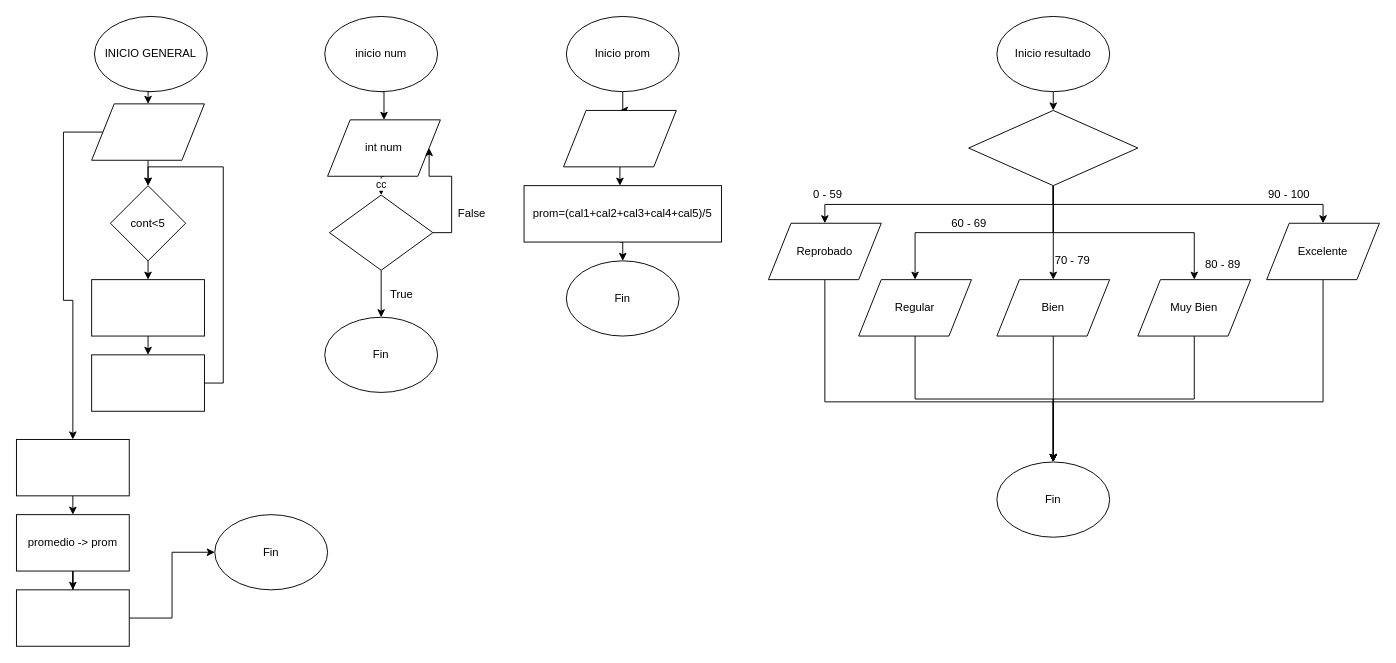
This 1396x663 diagram has some shape labels left out. The shapes that lost their labels are listed below. From the top down, each one's box as (x1, y1, x2, y2) in pixels, then its label:
(91, 103, 204, 160): cont=0 cal1, cal2, cal3, cal4, cal5
(563, 110, 676, 167): float prom
(968, 110, 1138, 186): Porcentaje
(329, 194, 433, 270): num>=1 && num<=10
(91, 279, 204, 336): cal -> num
(91, 354, 204, 411): cont++
(16, 439, 129, 496): cal1, cal2, cal3, cal4, cal5 -> num
(16, 589, 129, 646): porcentaje -> resultado
